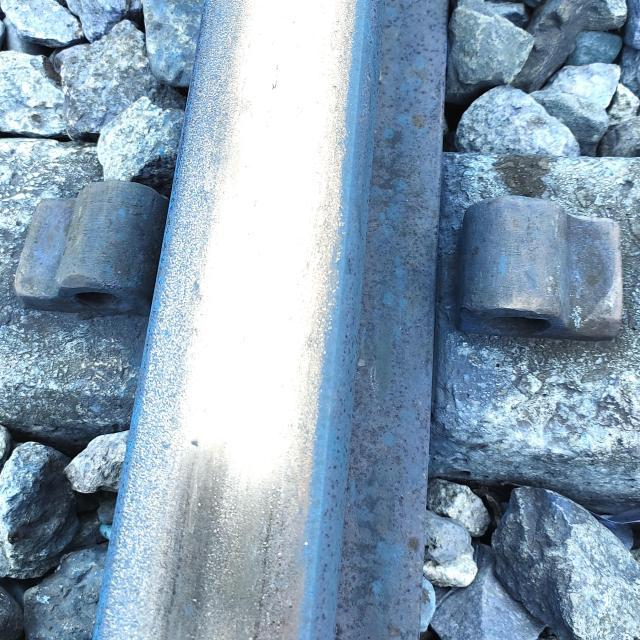Missing Fastener: (356, 165, 640, 411), (15, 161, 197, 335)
